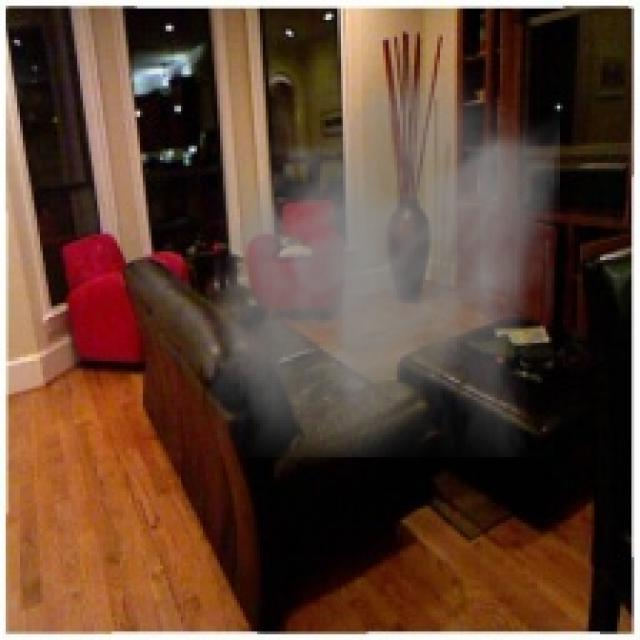smoke: (209, 54, 560, 457)
